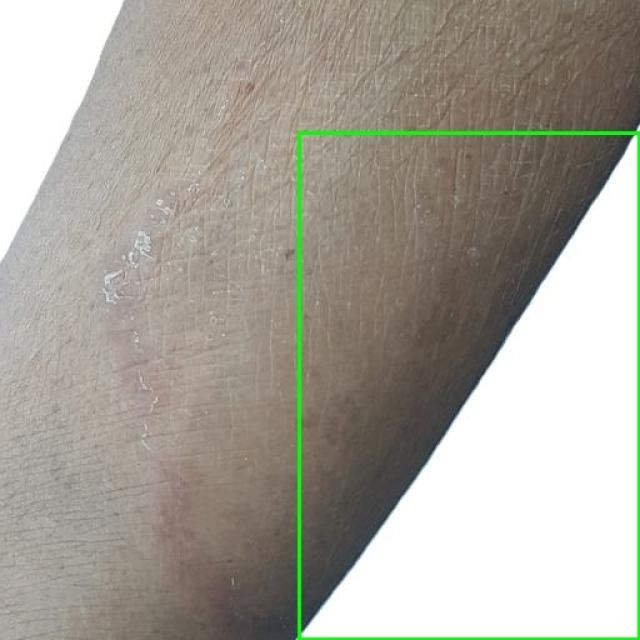Tinea Corporis: (299, 132, 639, 639)
